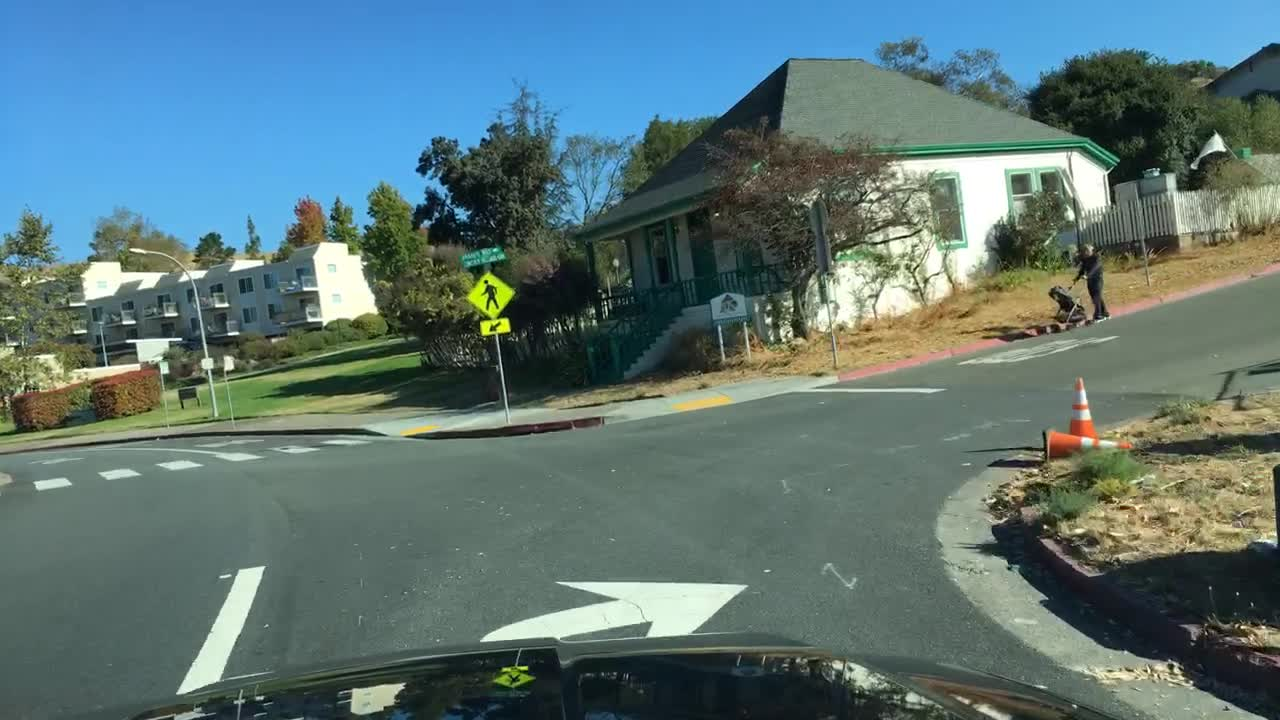person: (1070, 242, 1112, 325)
traffic sign: (467, 271, 515, 321), (459, 246, 505, 269), (481, 316, 512, 337)
